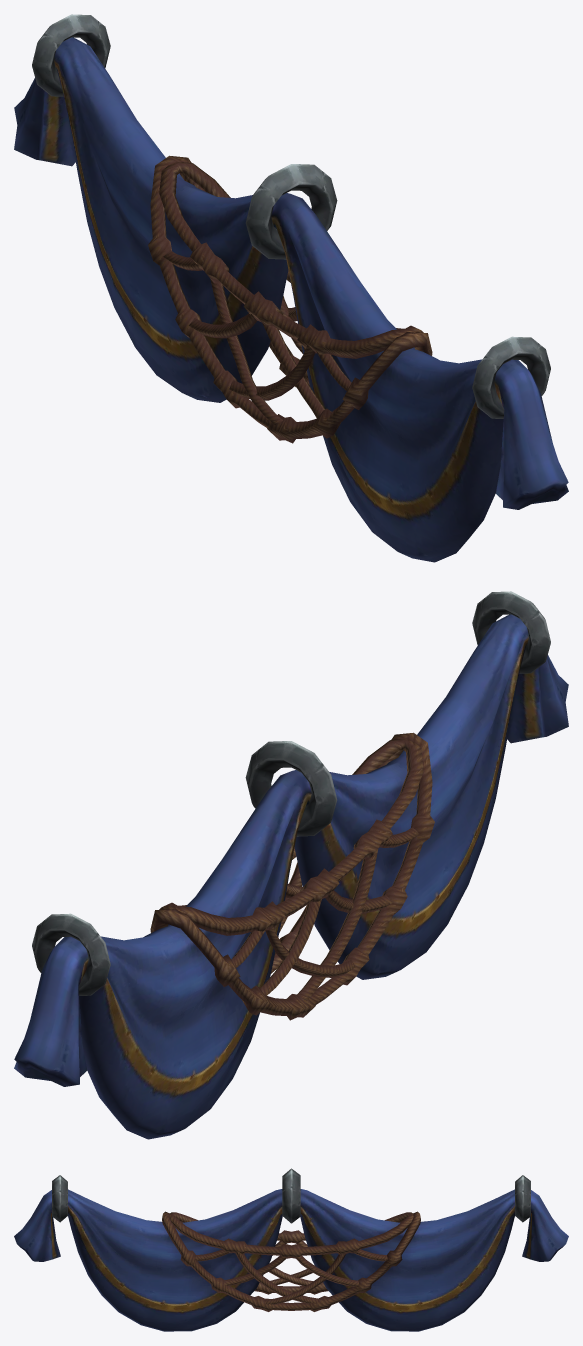
3 views of the same model, one above another, from view 1: azimuth 30°, elevation 25°; view 2: azimuth 150°, elevation 25°; view 3: azimuth 270°, elevation 25° (orthographic). The views are drawn at different scales.
Bounding box in the file's own units: 0.7188 × 2.29 × 7.17.
Materials: 2 (2 with a texture image).
